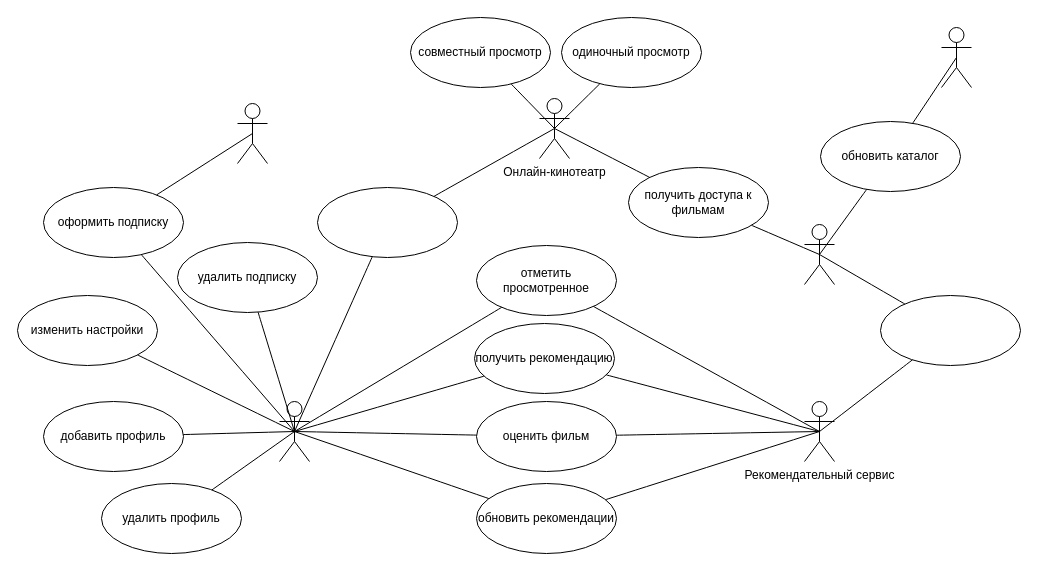
Some shapes in this 1038 by 571 pixel diagram are drawn without their labels. The centre of each missing label's shape, as x and y in pixels:
Администратор: [956,57]
Каталог: [819,254]
Подписка: [252,133]
Пользователь: [294,431]
синхронизация: [950,330]
смотреть фильм: [387,222]
